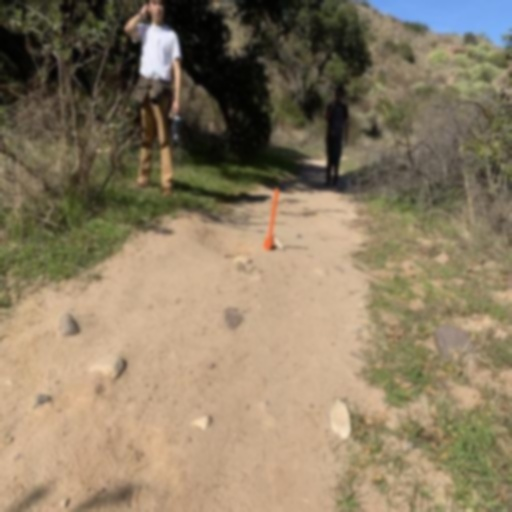bottle: (170, 116, 181, 142)
mallet: (264, 188, 279, 250)
